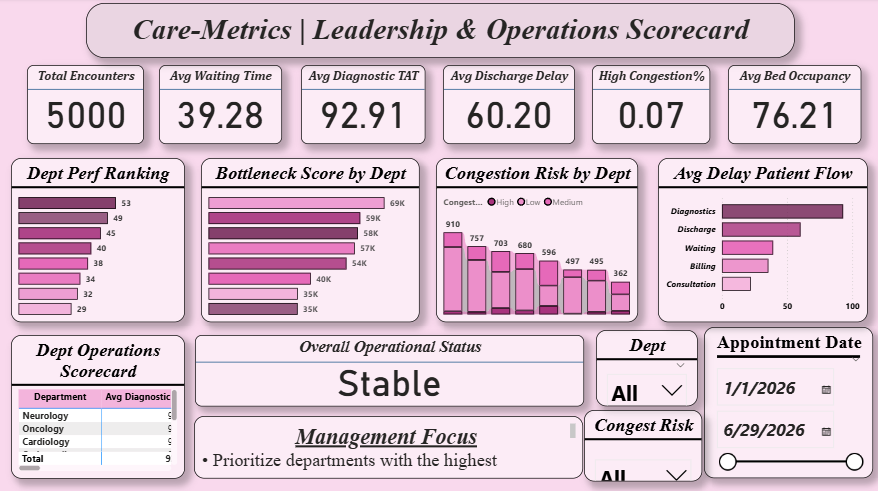

What the dashboard file says about the page in this screenshot:
{"tool":"powerbi","page":{"name":"Leadership & Operations Scorecard","canvas":[1280,720],"ordinal":3},"visuals":[{"type":"card","title":"Avg Diagnostic TAT","fields":{"Values":["PowerBI_Unified.Avg Diagnostic TAT"]},"box":[439.7,98,180.7,115.4],"z":0},{"type":"clusteredBarChart","title":"Dept Perf Ranking","fields":{"Category":["PowerBI_Unified.Department"],"Y":["PowerBI_Unified.Avg Waiting Time"]},"box":[17.4,232.9,252.5,239.5],"z":1000},{"type":"card","title":"Avg Waiting Time","fields":{"Values":["PowerBI_Unified.Avg Waiting Time"]},"box":[232.9,98,178.5,115.4],"z":2000},{"type":"card","title":"Total Encounters","fields":{"Values":["PowerBI_Unified.Total Encounters"]},"box":[41.4,98,169.8,115.4],"z":3000},{"type":"card","title":"Avg Discharge Delay","fields":{"Values":["PowerBI_Unified.Avg Discharge Delay"]},"box":[646.5,98,191.6,115.4],"z":4000},{"type":"card","title":"High Congestion%","fields":{"Values":["PowerBI_Unified.High Congestion %"]},"box":[862,98,172,115.4],"z":5000},{"type":"textbox","box":[126.5,7.3,1031.3,80],"z":6000},{"type":"card","title":"Avg Bed Occupancy","fields":{"Values":["PowerBI_Unified.Avg Bed Occupancy"]},"box":[1060.1,98,193.7,115.4],"z":7000},{"type":"slicer","title":"Appointment Date","fields":{"Values":["PowerBI_Unified.Appointment_Date"]},"box":[1025.3,478.9,246,219.9],"z":8000},{"type":"columnChart","title":"Congestion Risk by Dept","fields":{"Category":["PowerBI_Unified.Department"],"Y":["CountNonNull(PowerBI_Unified.Encounter_ID)"],"Series":["PowerBI_Unified.Congestion_Risk"]},"box":[635.6,232.9,293.9,239.5],"z":9000},{"type":"clusteredBarChart","title":"Avg Delay Patient Flow","fields":{"Category":["Process_Stages.Process"],"Y":["PowerBI_Unified.Process Delay"]},"box":[957.8,232.9,304.8,239.5],"z":10000},{"type":"slicer","title":"Dept","fields":{"Values":["PowerBI_Unified.Department"]},"box":[868.6,483.3,148,111],"z":11000},{"type":"slicer","title":"Congest Risk","fields":{"Values":["Calendar.Capacity Status"]},"box":[851.2,598.6,172,104.5],"z":12000},{"type":"pivotTable","title":"Dept Operations Scorecard","fields":{"Rows":["PowerBI_Unified.Department"],"Values":["PowerBI_Unified.Avg Diagnostic TAT","PowerBI_Unified.Avg Waiting Time","PowerBI_Unified.Avg Discharge Delay","Sum(PowerBI_Unified.Bottleneck_Score)","PowerBI_Unified.Avg Bed Occupancy"]},"box":[17.4,489.8,252.5,209],"z":13000},{"type":"card","title":"Overall Operational Status","fields":{"Values":["Calendar.Operational Status"]},"box":[285.2,489.8,566,104.5],"z":14000},{"type":"textbox","box":[283,607.3,566,91.4],"z":15000},{"type":"clusteredBarChart","title":"Bottleneck Score by Dept","fields":{"Category":["PowerBI_Unified.Department"],"Y":["Sum(PowerBI_Unified.Bottleneck_Score)"]},"box":[293.9,232.9,317.8,239.5],"z":16000}]}

Visuals, with their boxes in screenshot pixels (x1, y1, x2, y2), scaled from the page's 1280x720 canvas onto the 878x491 screenshot:
"Avg Diagnostic TAT" card: bbox=(302, 67, 426, 146)
"Dept Perf Ranking" clusteredBarChart: bbox=(12, 159, 185, 322)
"Avg Waiting Time" card: bbox=(160, 67, 282, 146)
"Total Encounters" card: bbox=(28, 67, 145, 146)
"Avg Discharge Delay" card: bbox=(443, 67, 575, 146)
"High Congestion%" card: bbox=(591, 67, 709, 146)
textbox: bbox=(87, 5, 794, 60)
"Avg Bed Occupancy" card: bbox=(727, 67, 860, 146)
"Appointment Date" slicer: bbox=(703, 327, 872, 477)
"Congestion Risk by Dept" columnChart: bbox=(436, 159, 638, 322)
"Avg Delay Patient Flow" clusteredBarChart: bbox=(657, 159, 866, 322)
"Dept" slicer: bbox=(596, 330, 697, 405)
"Congest Risk" slicer: bbox=(584, 408, 702, 479)
"Dept Operations Scorecard" pivotTable: bbox=(12, 334, 185, 477)
"Overall Operational Status" card: bbox=(196, 334, 584, 405)
textbox: bbox=(194, 414, 582, 476)
"Bottleneck Score by Dept" clusteredBarChart: bbox=(202, 159, 420, 322)
